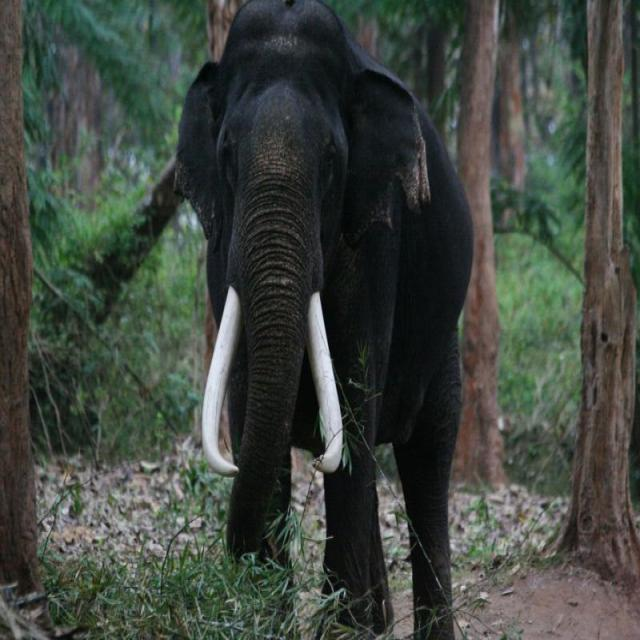Elephant: (172, 0, 503, 640)
